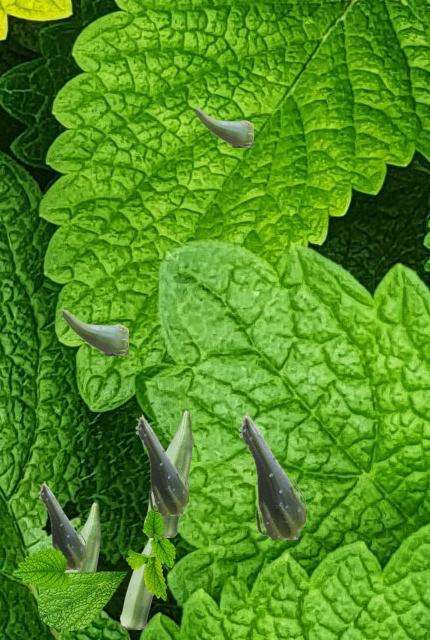okra: (238, 412, 304, 538), (144, 410, 191, 536), (135, 414, 187, 514), (38, 481, 84, 568), (120, 537, 153, 628), (61, 309, 127, 354), (66, 502, 99, 571), (194, 107, 252, 146)
